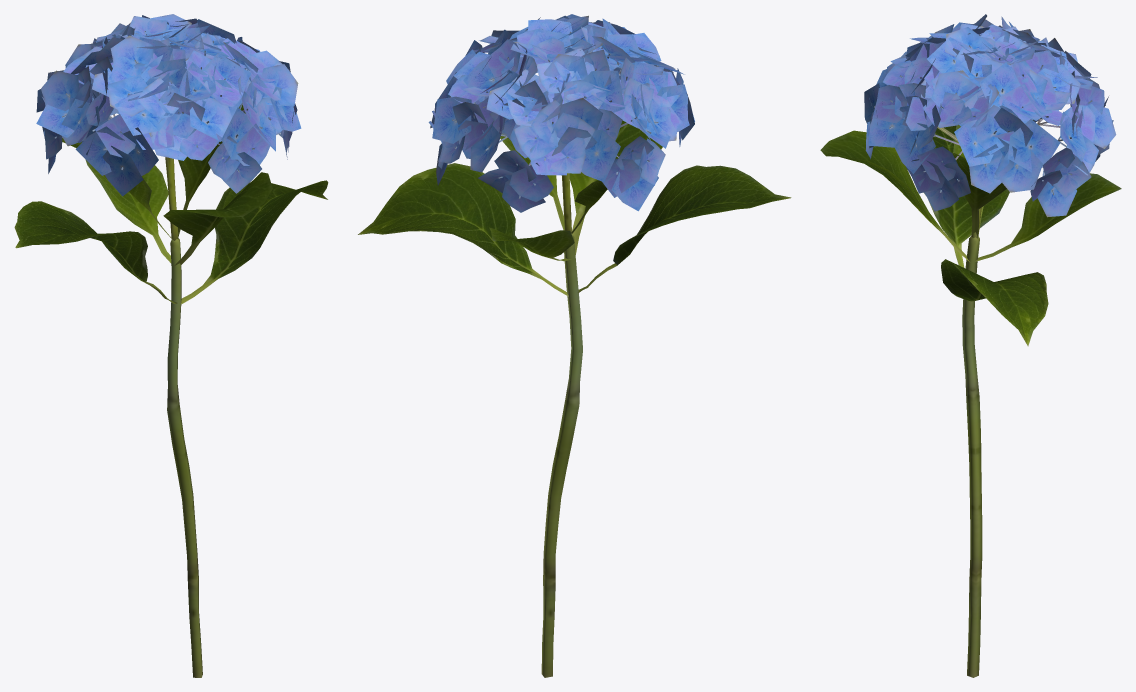
The model's file is Hydrangea_OG_normal_deepblue.glb.
3 views of the same model, side by side, from view 1: azimuth 30°, elevation 25°; view 2: azimuth 150°, elevation 25°; view 3: azimuth 270°, elevation 25° (orthographic). The views are drawn at different scales.
Parts seen in each view (by area): view 1: Hydrangea; view 2: Hydrangea; view 3: Hydrangea.
Boxes of the visible parts, x1=… form: Hydrangea: x1=14, y1=14, x2=328, y2=677; Hydrangea: x1=358, y1=14, x2=791, y2=677; Hydrangea: x1=820, y1=14, x2=1121, y2=677.
Size of the model in its own units: 1.38 by 2.31 by 1.
Materials: 1 (1 with a texture image).
